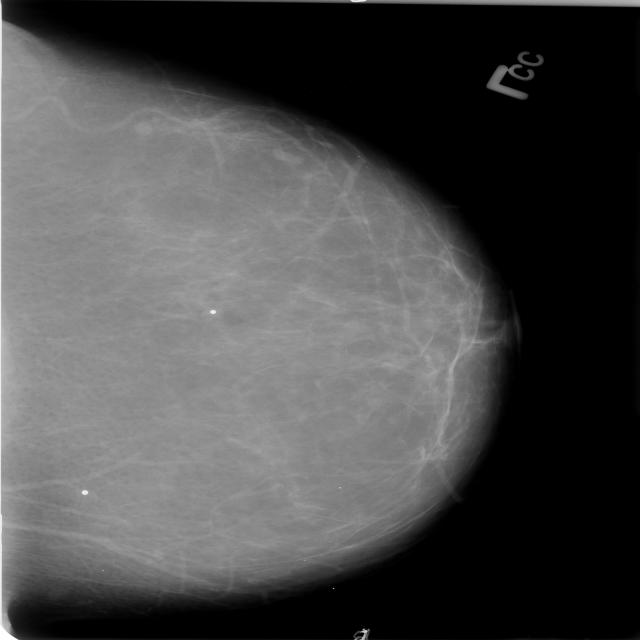normal: (0, 0, 527, 602)
